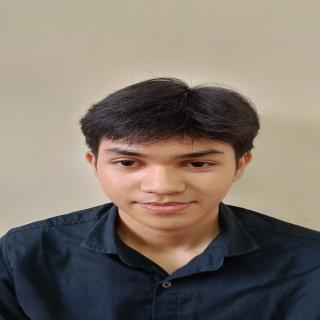Netral: (87, 120, 254, 235)
